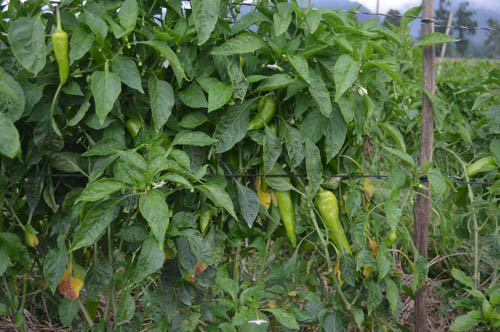ChiliPepper: (319, 190, 352, 256), (276, 190, 297, 247), (51, 32, 72, 85), (251, 98, 277, 134)
